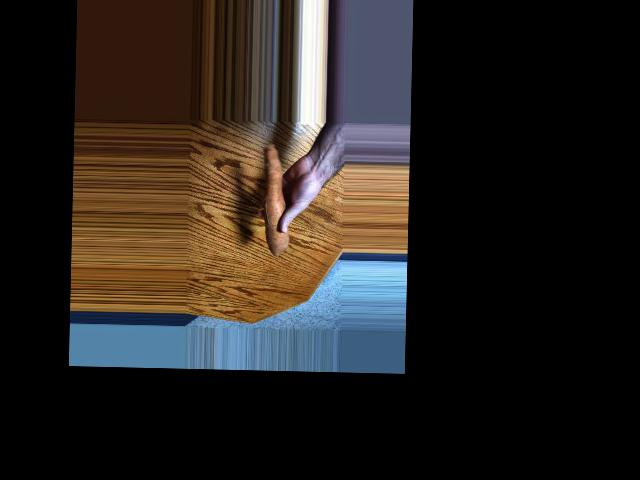sweet_potato: (259, 139, 287, 253)
